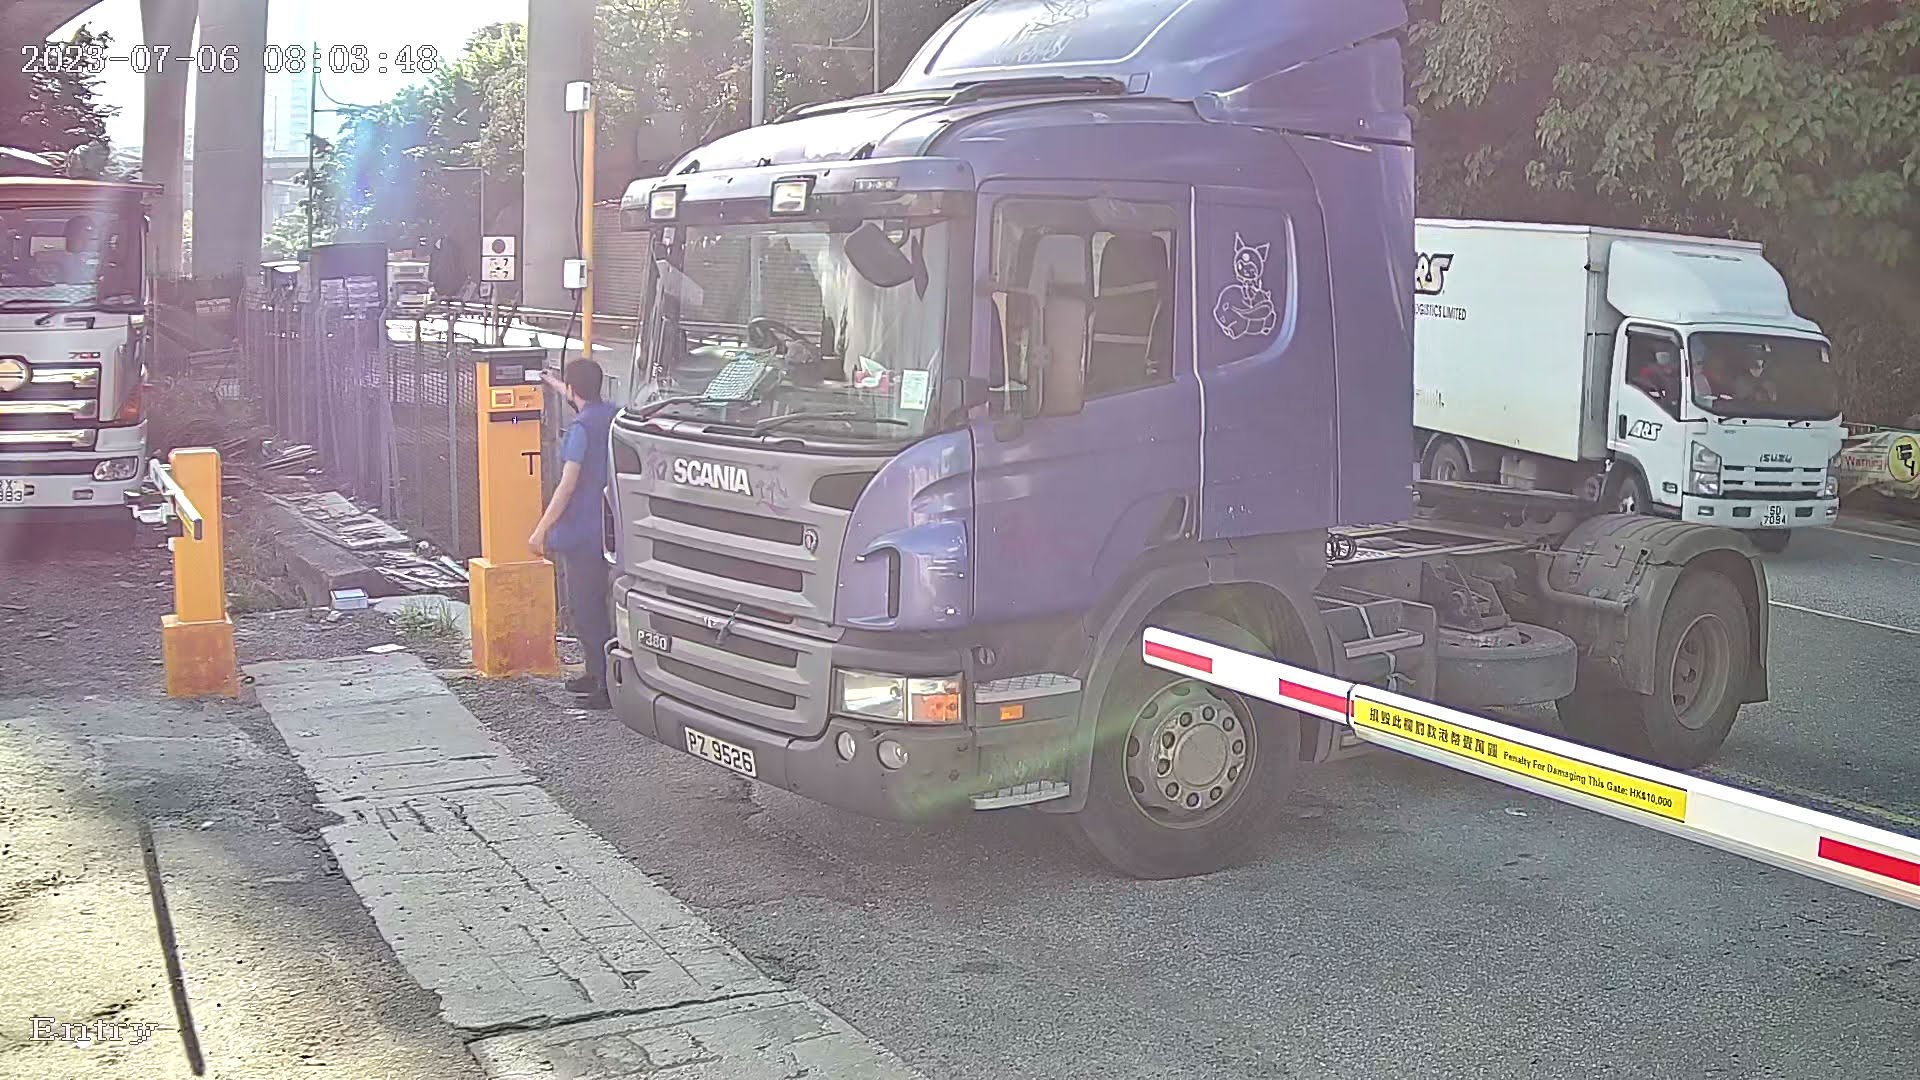truck: (525, 1, 1795, 876)
